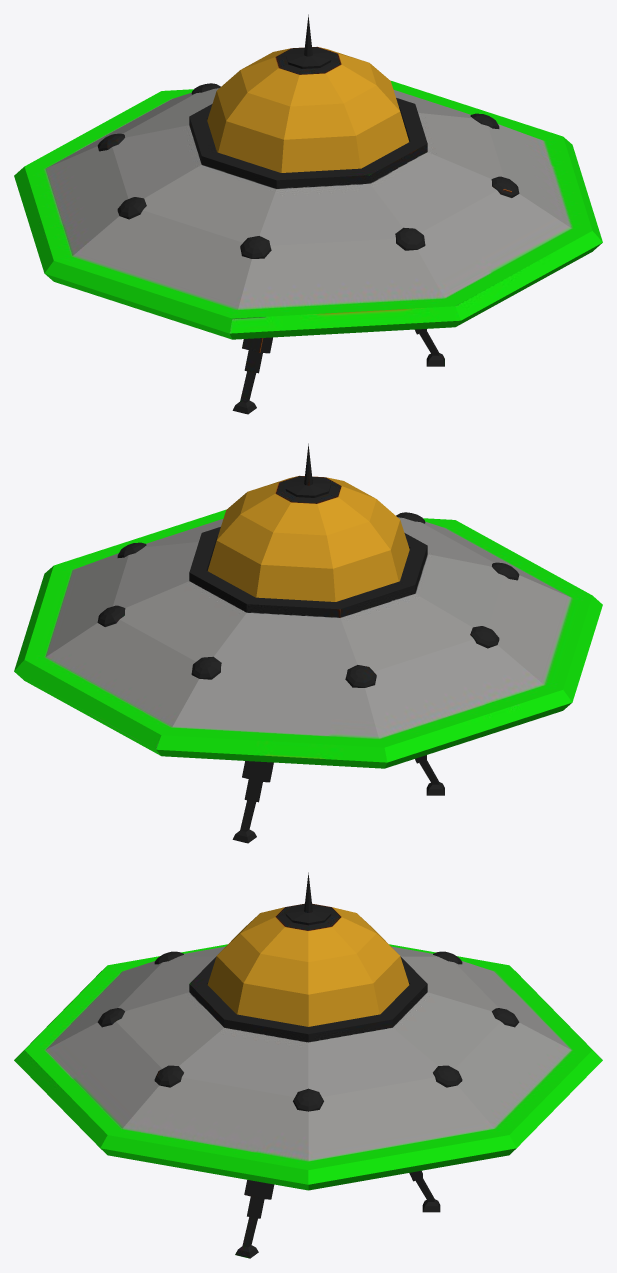
File: E 45 Aircraft_obj.obj
3 renders of one model, top to bottom at view 1: azimuth 30°, elevation 25°; view 2: azimuth 150°, elevation 25°; view 3: azimuth 270°, elevation 25°, orthographic. The views are drawn at different scales.
Visible parts, largest first — view 1: flying_Parts; view 2: flying_Parts; view 3: flying_Parts.
Part boxes in pixels (box(x1,y1,x2,y2)): flying_Parts: box(14, 14, 602, 414); flying_Parts: box(14, 443, 602, 843); flying_Parts: box(14, 872, 602, 1258).
Bounding box in the file's own units: 6.21 × 3.91 × 6.21.
2 materials, 2 textured.
